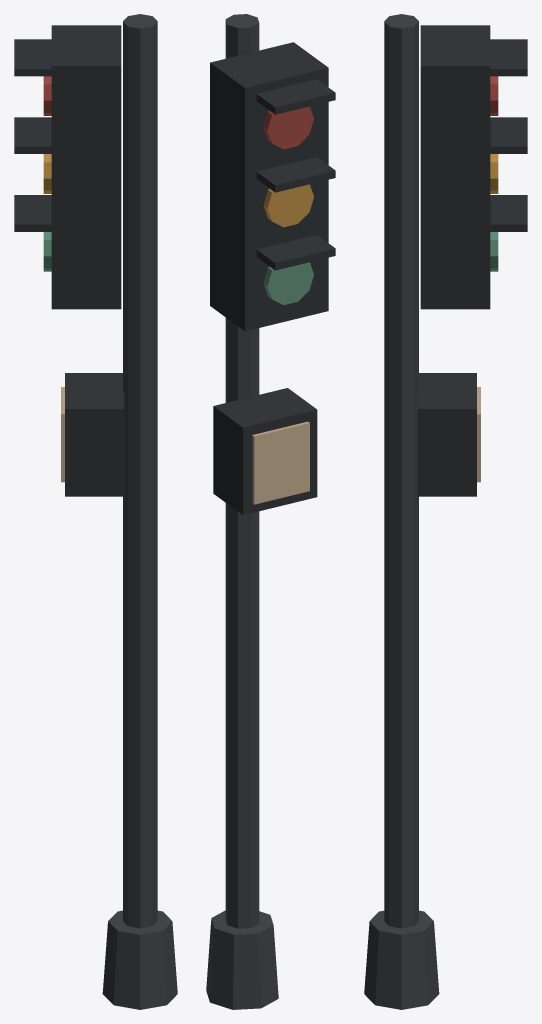
File: traffic-light-BImorH-K.glb
The picture shows the model from 3 angles, left to right: view 1: azimuth 90°, elevation 25°; view 2: azimuth 210°, elevation 25°; view 3: azimuth 270°, elevation 25°; orthographic projection.
Visible parts, largest first — view 1: traffic-light; view 2: traffic-light; view 3: traffic-light.
Boxes of the visible parts, x1=… form: traffic-light: x1=14, y1=14, x2=177, y2=1009; traffic-light: x1=206, y1=14, x2=335, y2=1009; traffic-light: x1=364, y1=14, x2=527, y2=1009.
Size of the model in its own units: 0.3599 by 4 by 0.6099.
